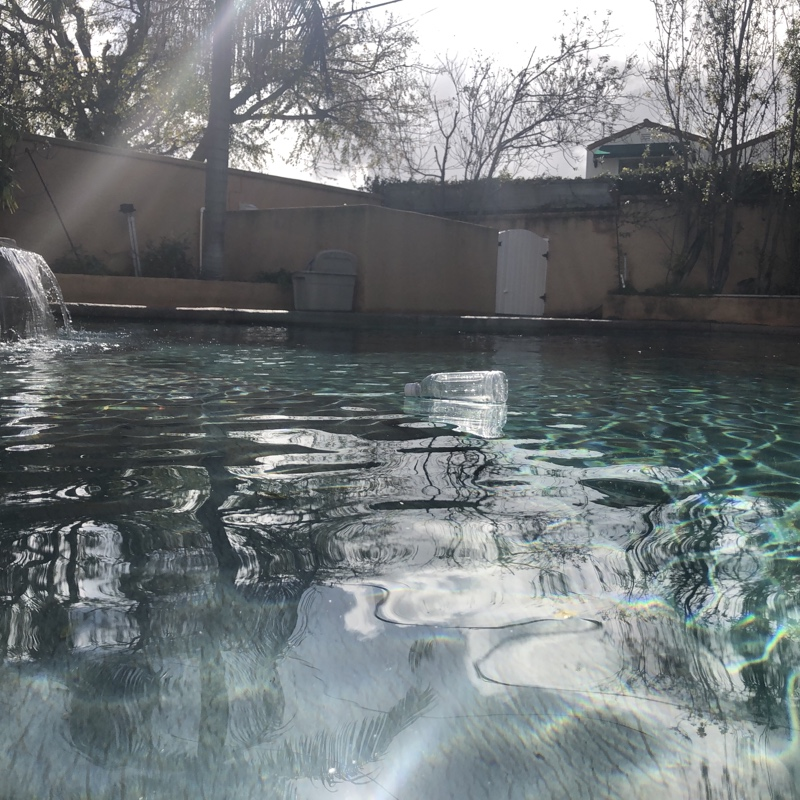Plastic Bottle: (398, 366, 514, 408)
